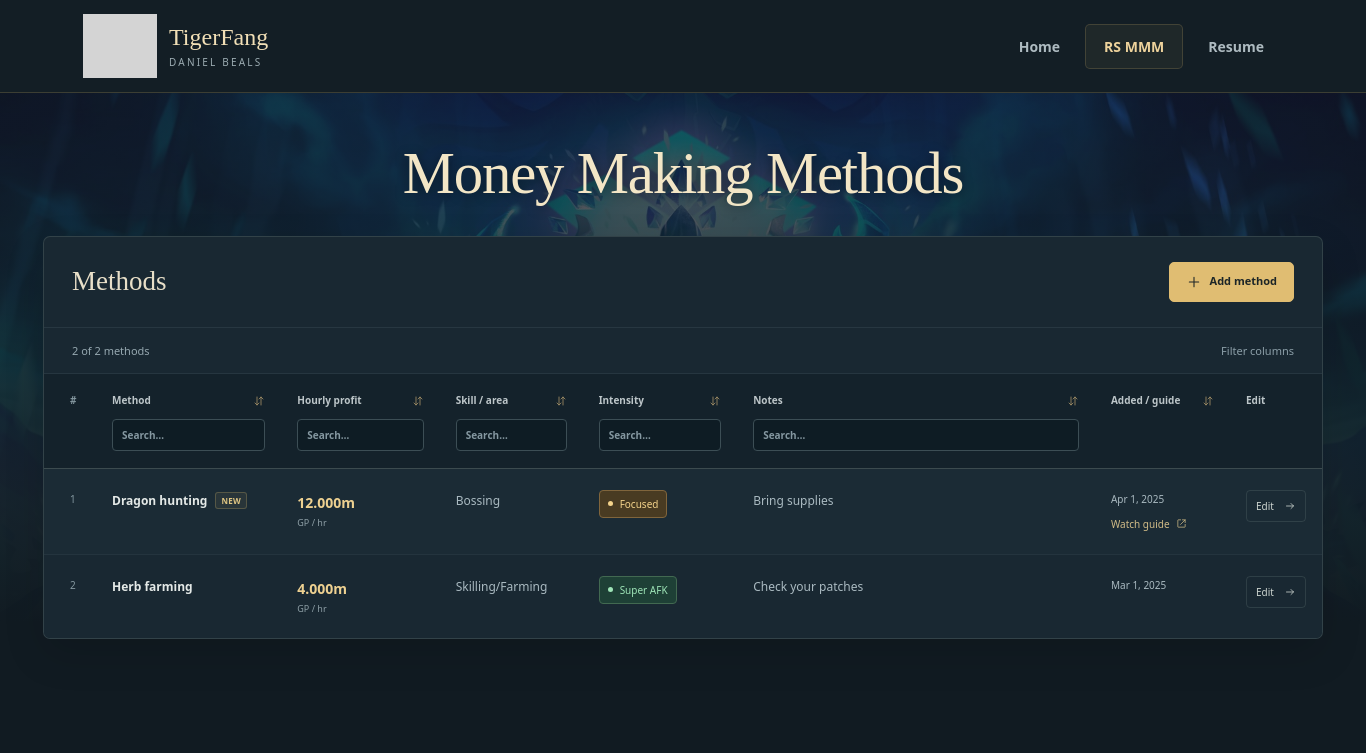
Test: visiting the game page does not leave scenery behind the resume
Check: the search field named "Filter Method" is shown, box [112,419,265,451]
Click the link "Resume" at (1236, 46), box [1208,36,1264,56]
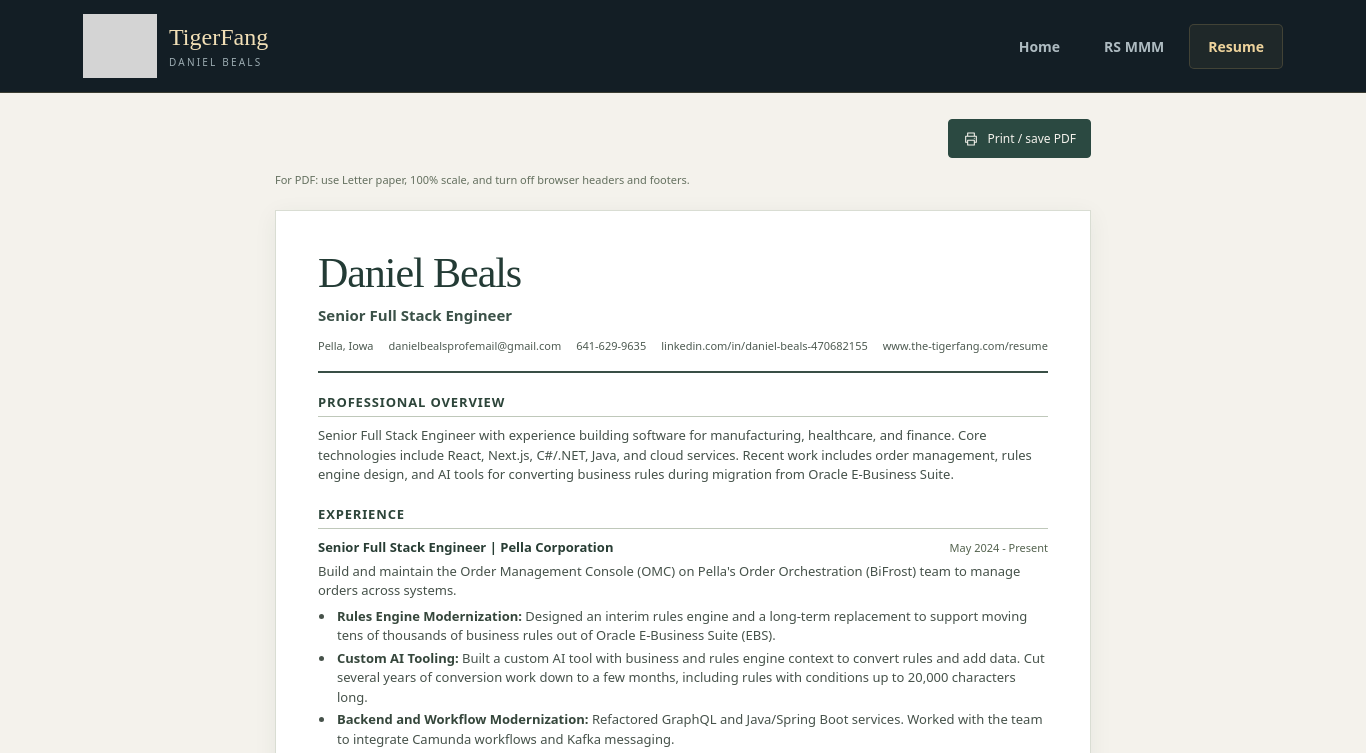
Check: the heading "Daniel Beals" is shown, box [318,250,521,296]
